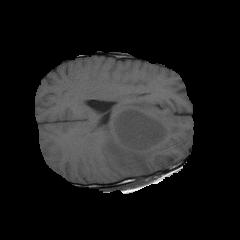glioma: (94, 101, 182, 175)
